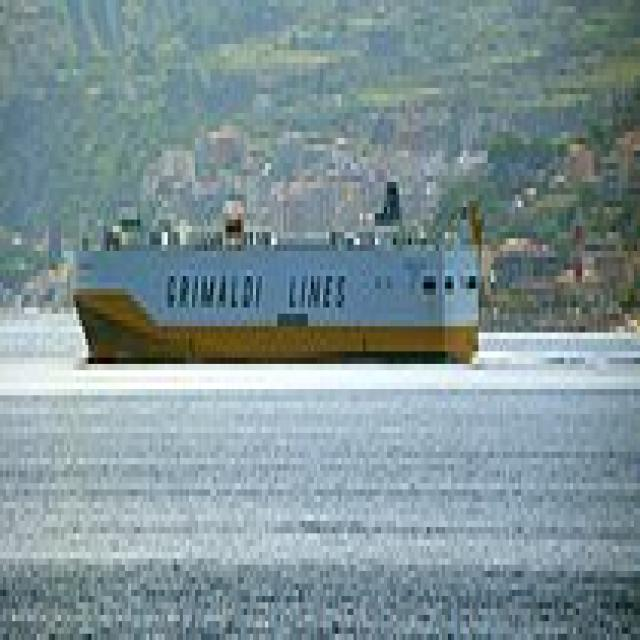Carrier: (61, 176, 481, 370)
